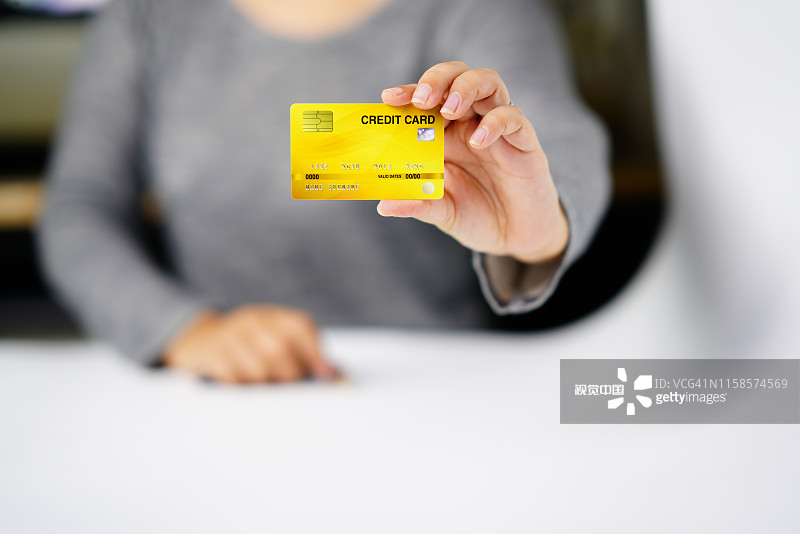no-phone: (316, 50, 567, 276)
